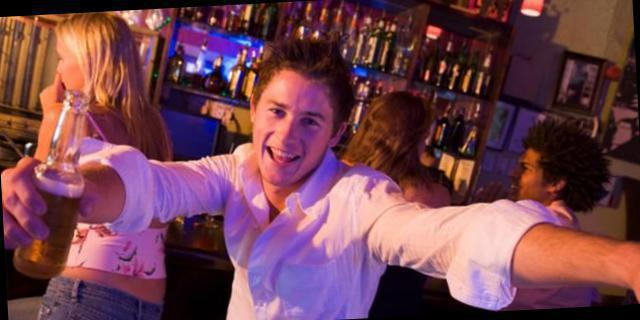Drunk: (256, 77, 326, 185)
